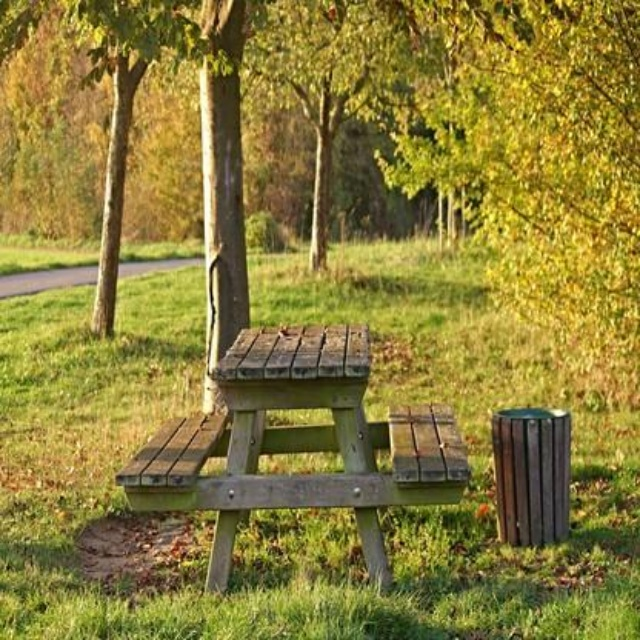obstacle: (111, 320, 475, 608)
